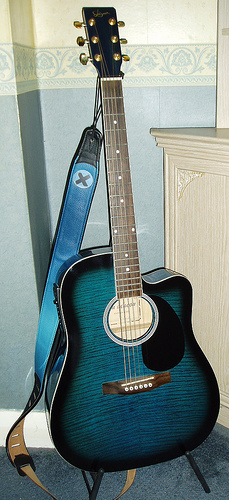guitar: (41, 4, 223, 479)
